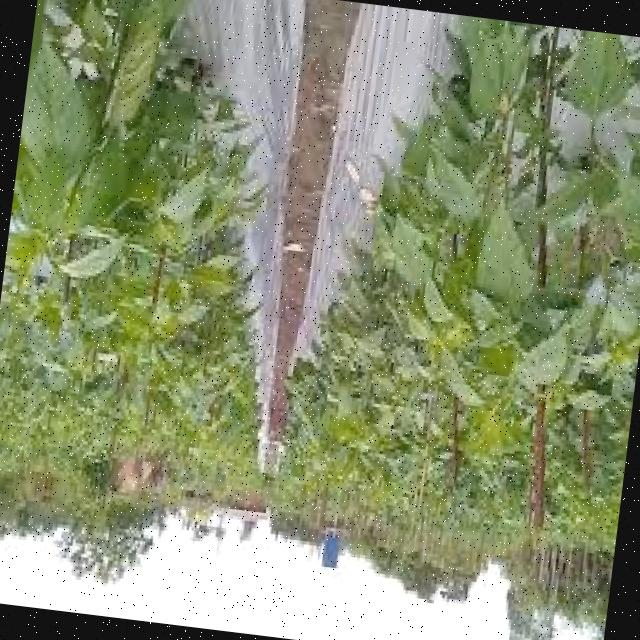healthy: (263, 0, 640, 593)
